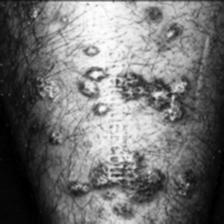Non-Cancerous Skin Condition: (127, 13, 193, 224), (19, 2, 92, 144), (56, 160, 106, 224)
